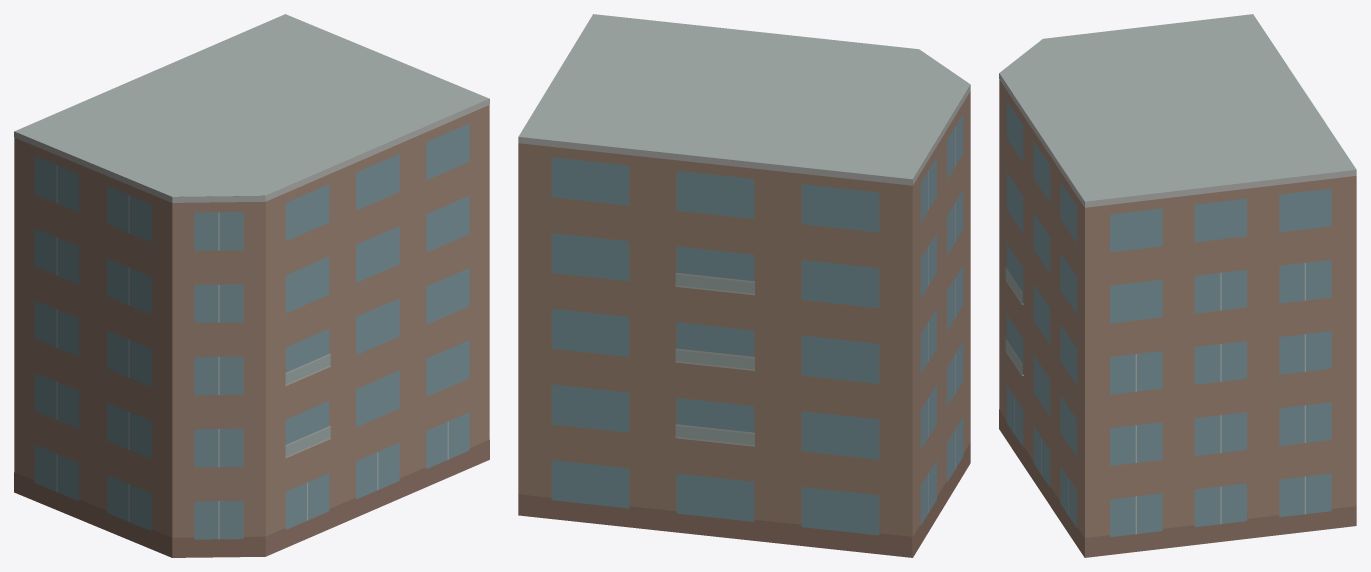
The model's file is survey-upis-32715373.glb.
3 renders of one model, left to right at view 1: azimuth 30°, elevation 25°; view 2: azimuth 150°, elevation 25°; view 3: azimuth 270°, elevation 25°, orthographic. The views are drawn at different scales.
Parts seen in each view (by area): view 1: survey-upis-32715373.tmp; view 2: survey-upis-32715373.tmp; view 3: survey-upis-32715373.tmp.
Part boxes in pixels (<box>): survey-upis-32715373.tmp: <box>14,14,489,557</box>; survey-upis-32715373.tmp: <box>518,14,970,557</box>; survey-upis-32715373.tmp: <box>999,14,1356,557</box>.
Bounding box in the file's own units: 16.41 × 14.5 × 13.21.
